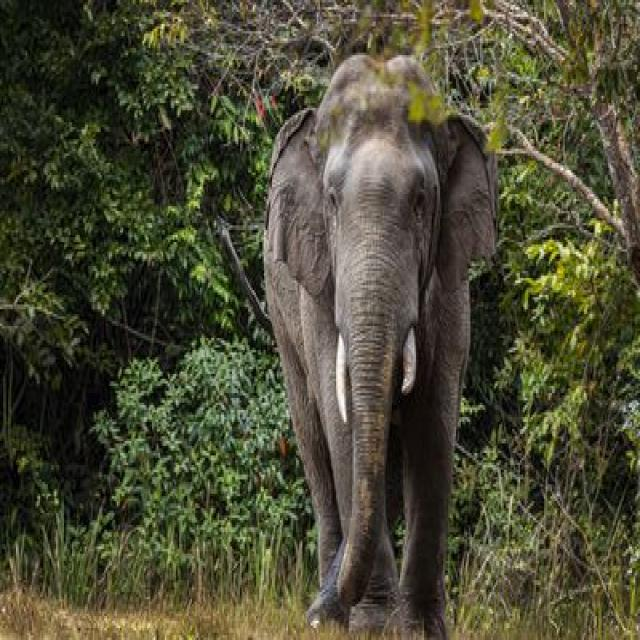Elephant: (262, 50, 494, 640)
